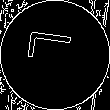L_E: (28, 36, 82, 74)
